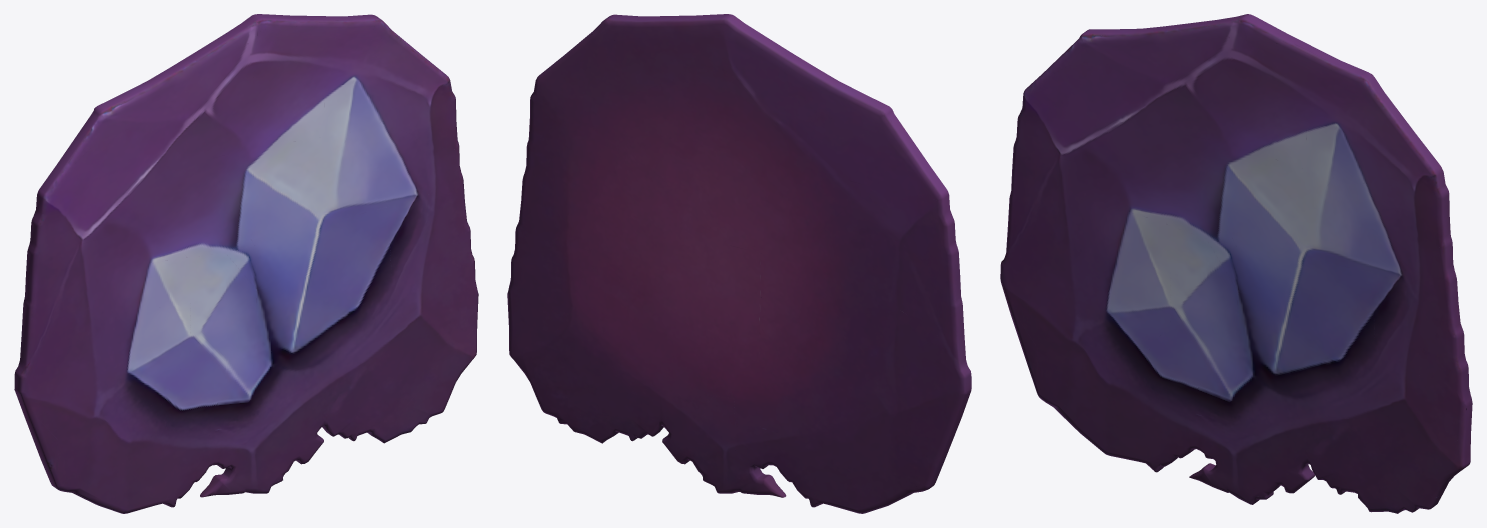
The model's file is Silver_Ore.glb.
3 renders of one model, left to right at view 1: azimuth 30°, elevation 25°; view 2: azimuth 150°, elevation 25°; view 3: azimuth 330°, elevation 25°, orthographic.
Parts seen in each view (by area): view 1: geometry_0; view 2: geometry_0; view 3: geometry_0.
Part boxes in pixels (bbox=[...]): geometry_0: bbox=[14, 14, 478, 513]; geometry_0: bbox=[507, 14, 971, 513]; geometry_0: bbox=[1000, 14, 1472, 513].
Bounding box in the file's own units: 0.9546 × 0.9473 × 0.0308.
1 material, 1 textured.
